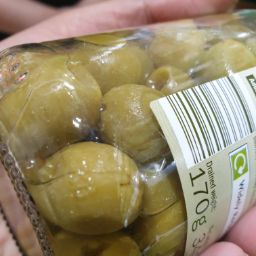Olives: (6, 33, 256, 236), (2, 51, 150, 255), (78, 32, 249, 67)
